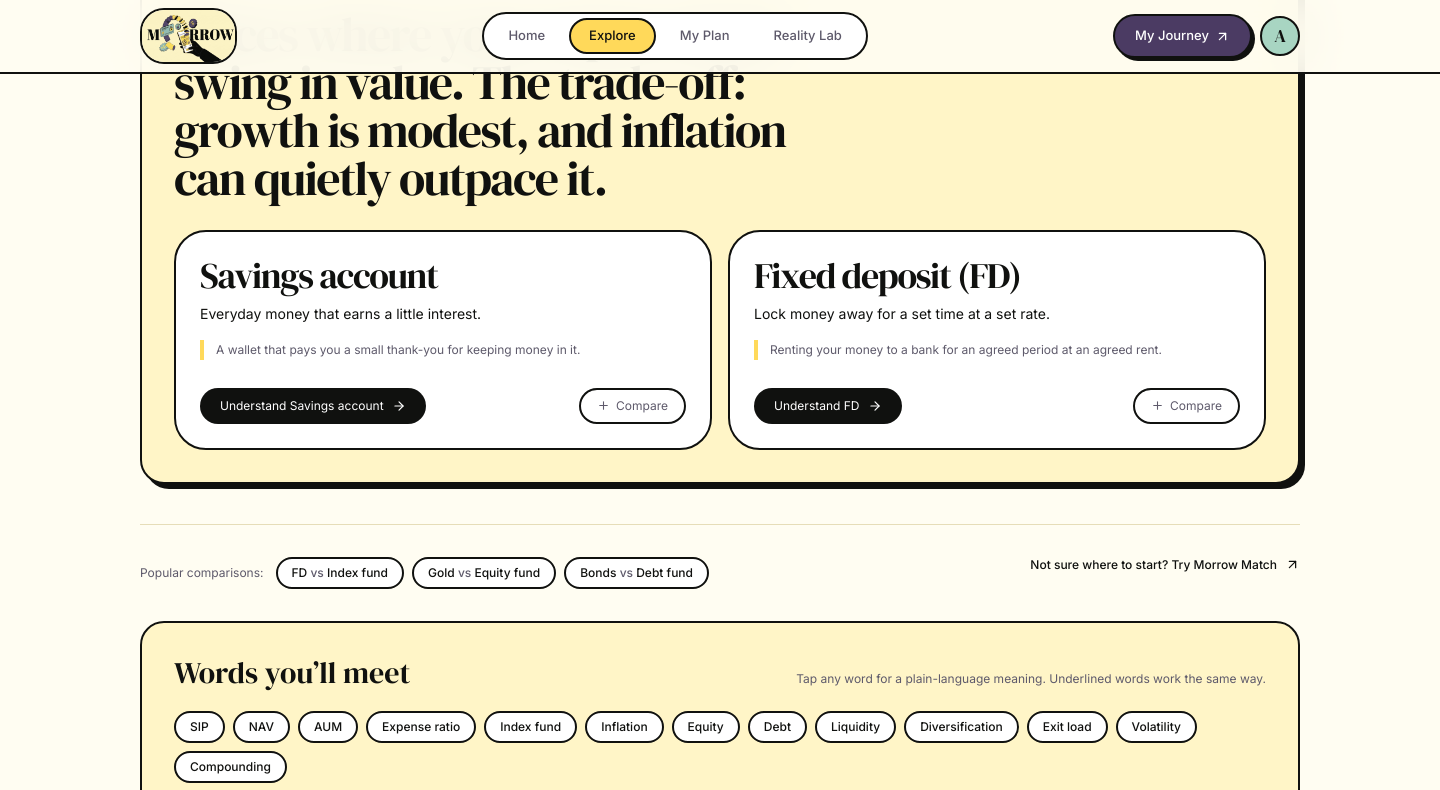
Scenario: Investment Explorer › compares exactly two investments across categories
(page scrolled)
Click the button with aria-label "Add FD to comparison".
click(1186, 406)  # box 1133,388 -> 1240,424
(page scrolled)
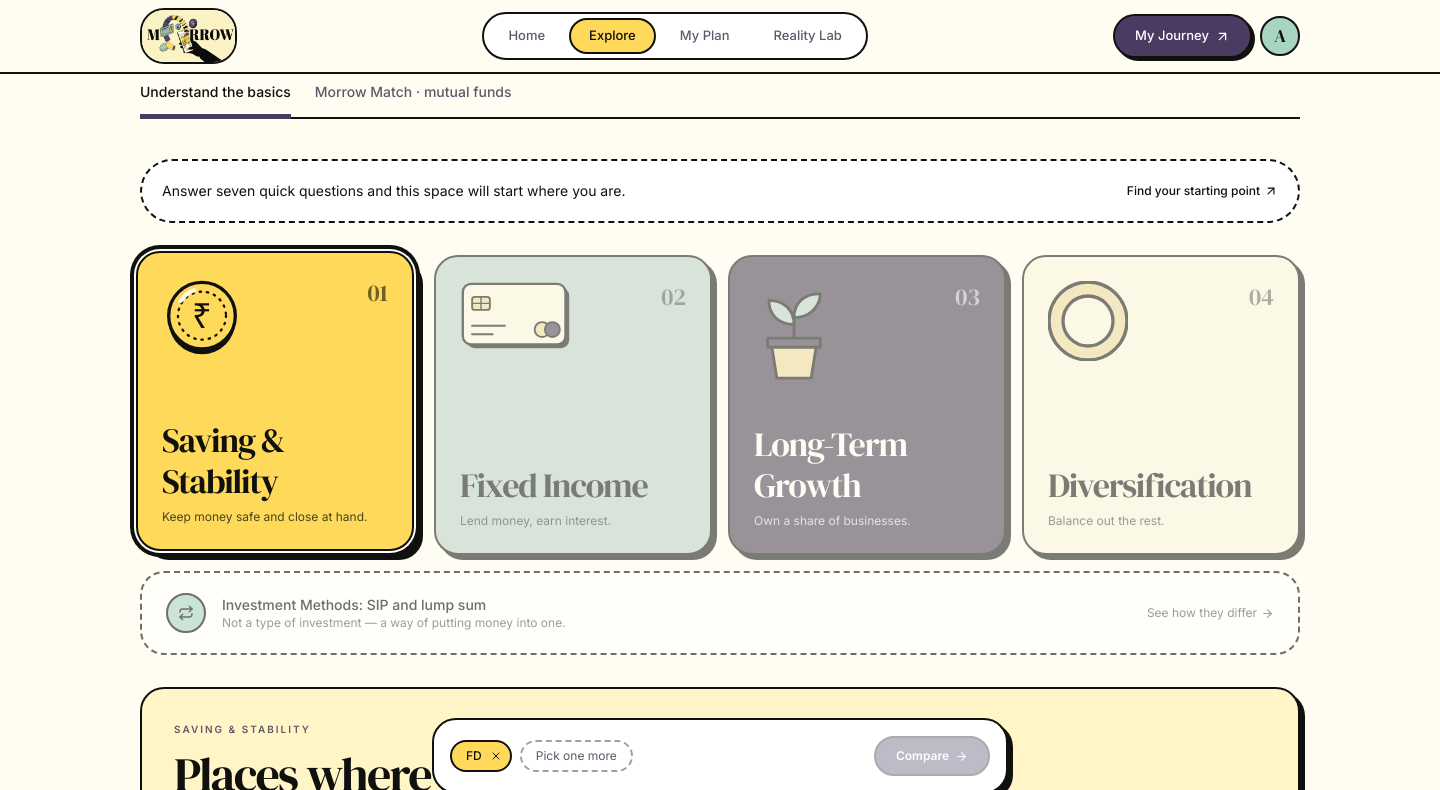
Click the button "03 Long-Term Growth Own a share of businesses.".
click(794, 332)  # box 728,255 -> 1006,555
(page scrolled)
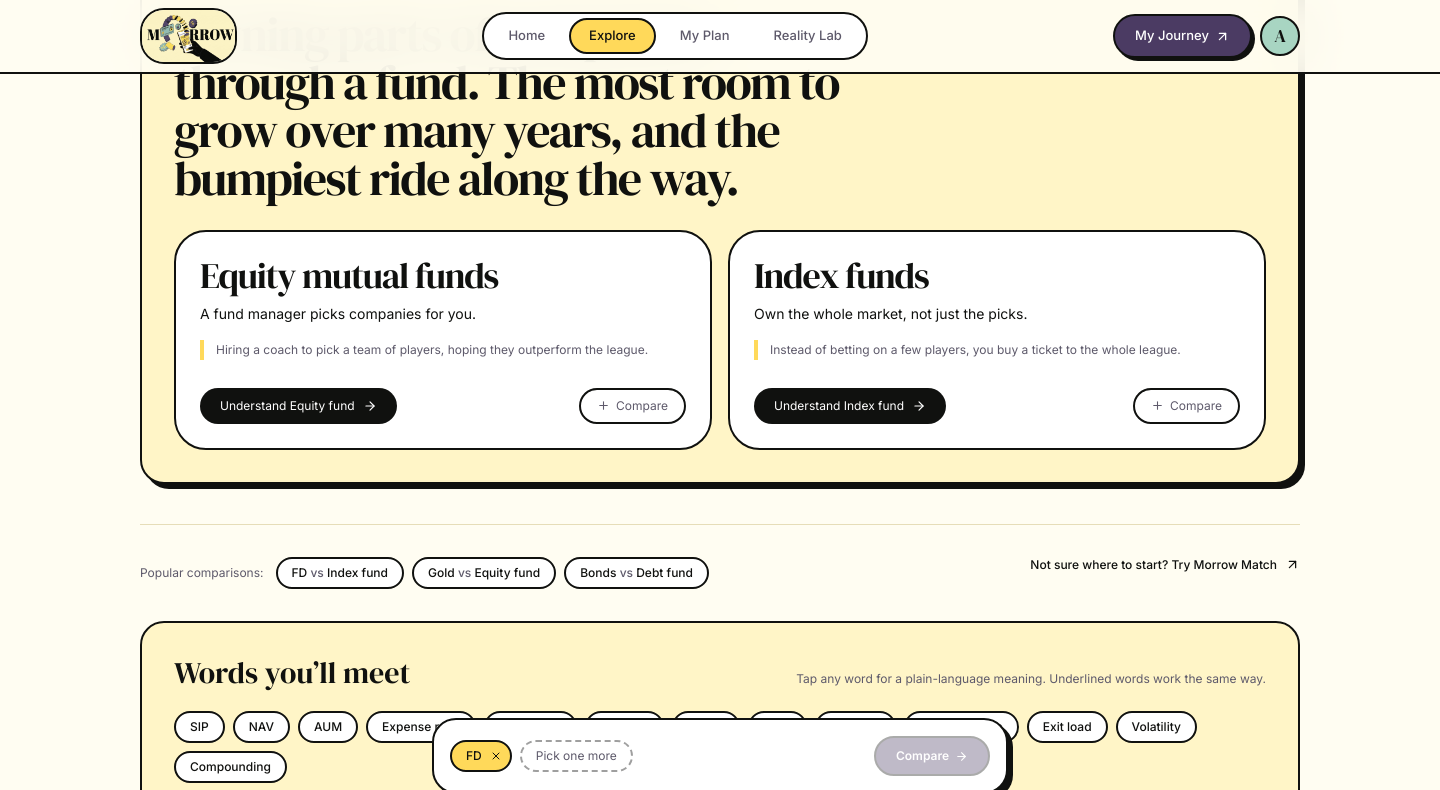
Click the button with aria-label "Add Index fund to comparison".
click(1186, 406)  # box 1133,388 -> 1240,424
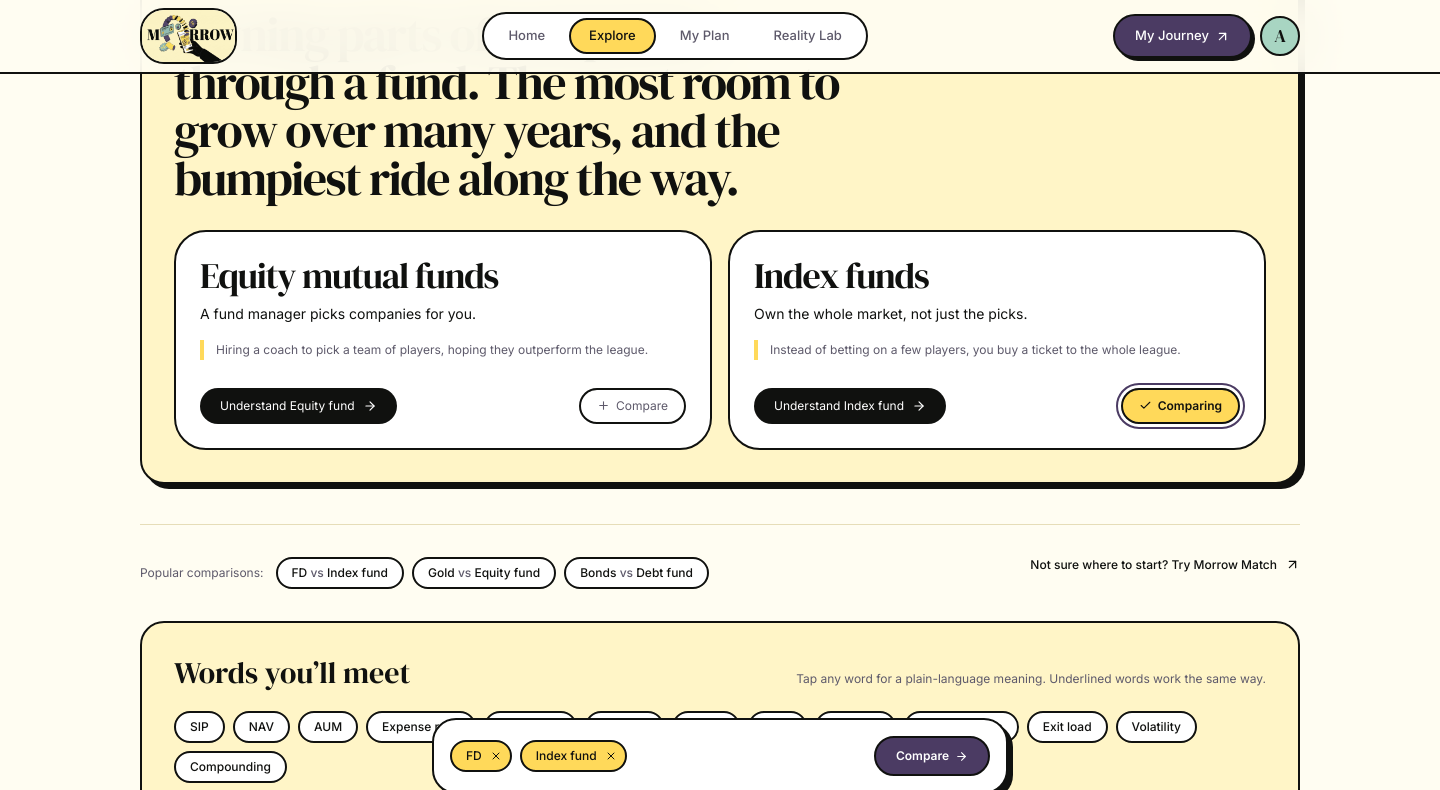
Check: the button with aria-label "Add Equity fund to comparison" is shown
Click the button with aria-label "Add Equity fund to comparison".
click(632, 406)  # box 579,388 -> 686,424
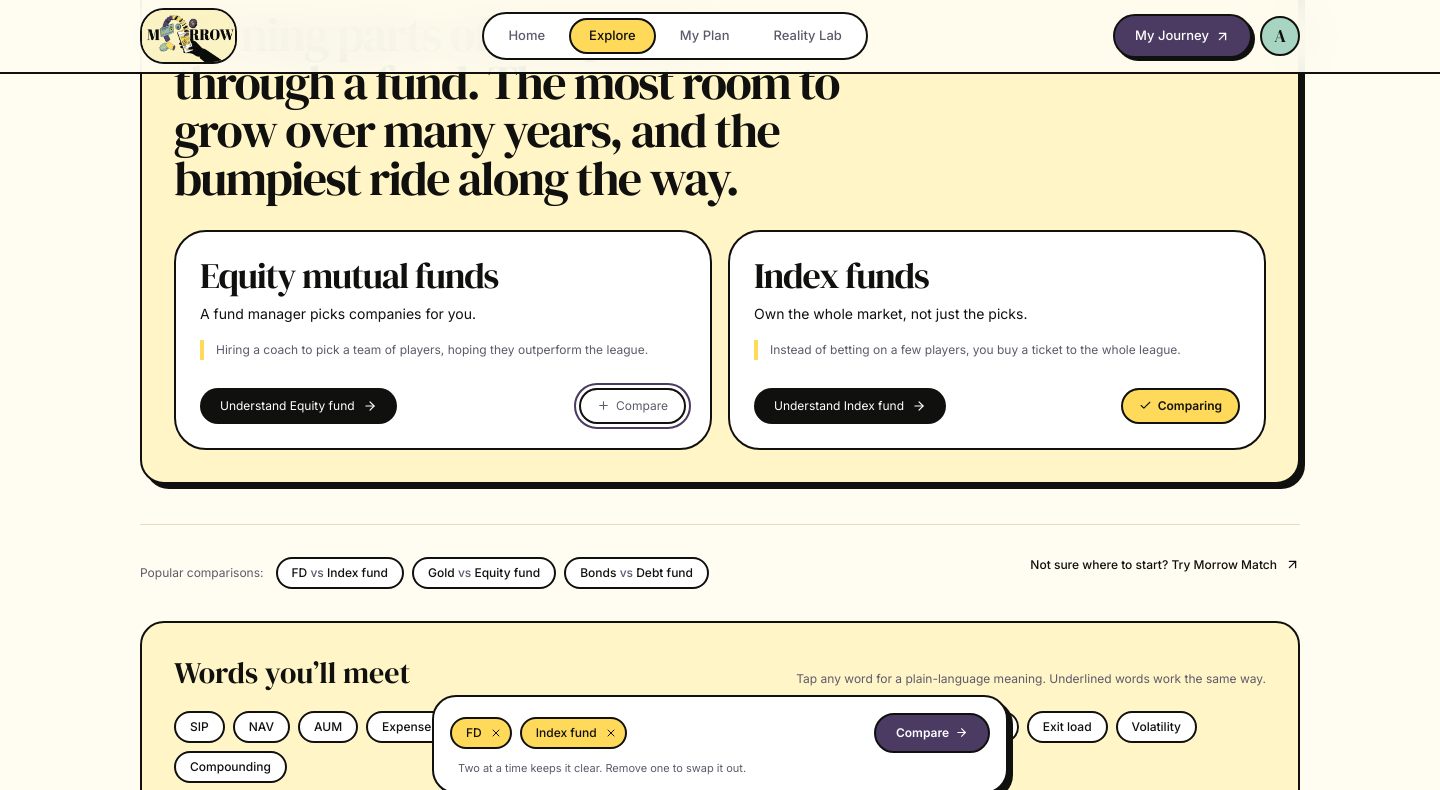
Check: the text "Two at a time keeps it clear. Remove one to swap it out." is shown, box 458,761 -> 746,775
Click the 2nd button "Compare".
click(932, 733)  # box 874,713 -> 990,753
(page scrolled)
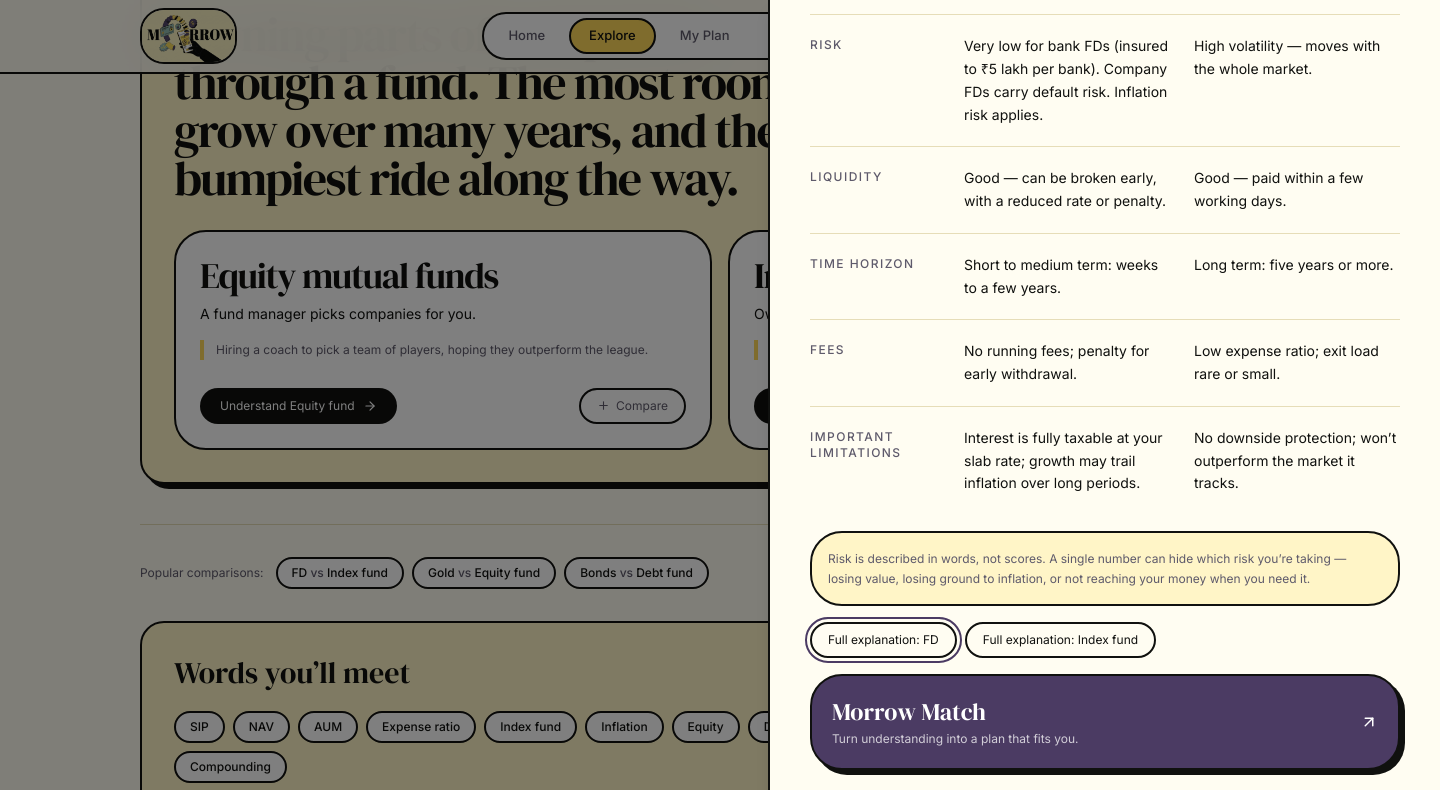
Check: the text "Risk" is shown, box 810,37 -> 843,52
Check: the text "Liquidity" is shown, box 810,169 -> 883,184
Check: the text "Time horizon" is shown, box 810,256 -> 914,271
